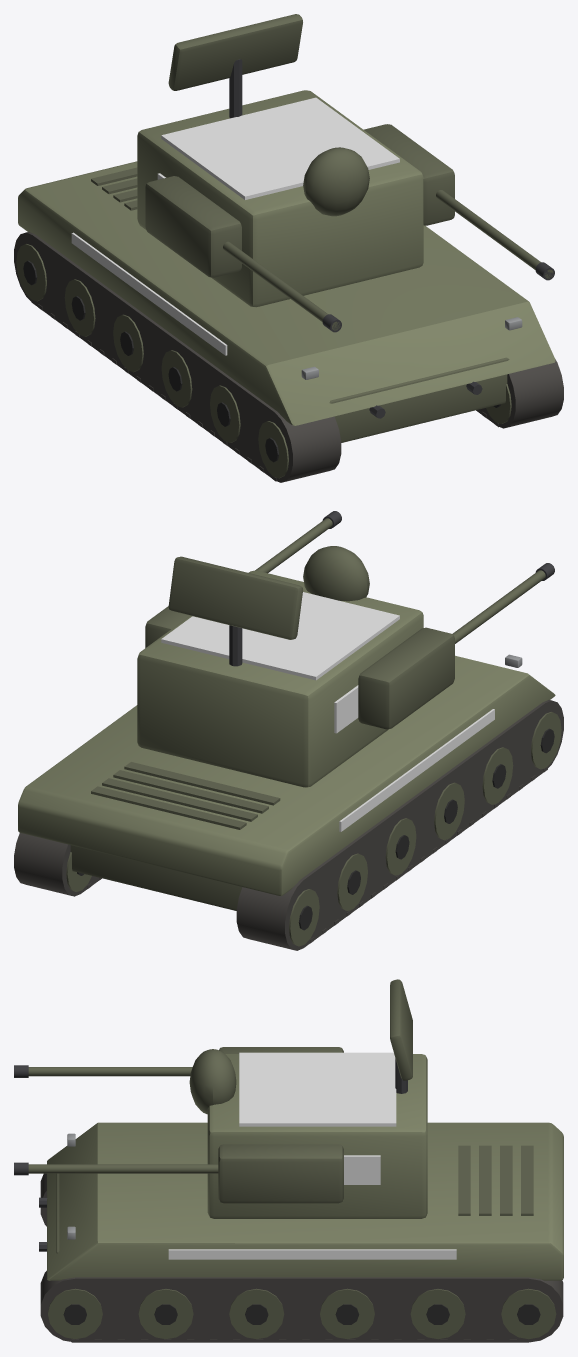
File: aa_vehicle.glb
The picture shows the model from 3 angles, top to bottom: view 1: azimuth 30°, elevation 25°; view 2: azimuth 150°, elevation 25°; view 3: azimuth 270°, elevation 25°; orthographic projection. The views are drawn at different scales.
Parts seen in each view (by area): view 1: hull, turret; view 2: hull, turret; view 3: hull, turret.
Part boxes in pixels (x1,y1,x2,y2): hull: (14,161,563,482); turret: (137,14,554,332); hull: (14,654,563,950); turret: (137,511,554,787); hull: (39,1122,563,1342); turret: (14,979,427,1218).
Size of the model in its own units: 2.86 by 2.89 by 5.25.
